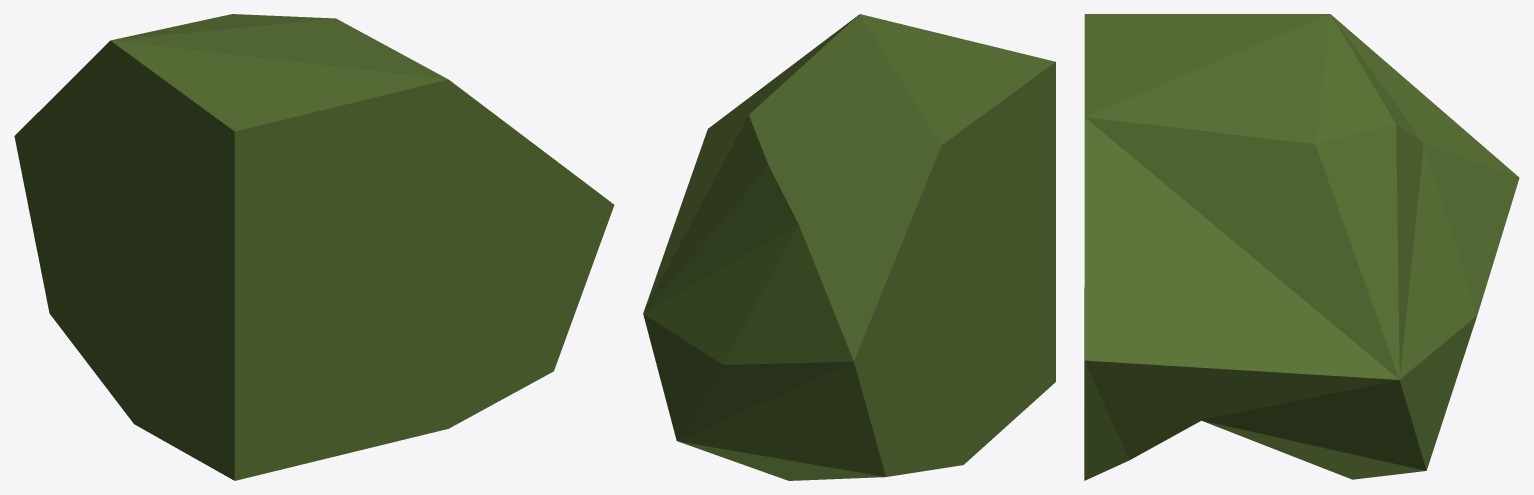
File: LightVegetationEdgeSmallExternalCurve2.fbx
3 renders of one model, left to right at view 1: azimuth 30°, elevation 25°; view 2: azimuth 150°, elevation 25°; view 3: azimuth 270°, elevation 25°, orthographic. The views are drawn at different scales.
Parts seen in each view (by area): view 1: LightVegetationEdgeEdgeSmallExternalCurve2; view 2: LightVegetationEdgeEdgeSmallExternalCurve2; view 3: LightVegetationEdgeEdgeSmallExternalCurve2.
Boxes of the visible parts, x1,y1,x2,y2 form: LightVegetationEdgeEdgeSmallExternalCurve2: (14, 14, 614, 480); LightVegetationEdgeEdgeSmallExternalCurve2: (643, 14, 1055, 480); LightVegetationEdgeEdgeSmallExternalCurve2: (1084, 14, 1519, 480).
Size of the model in its own units: 228 by 227 by 229.
